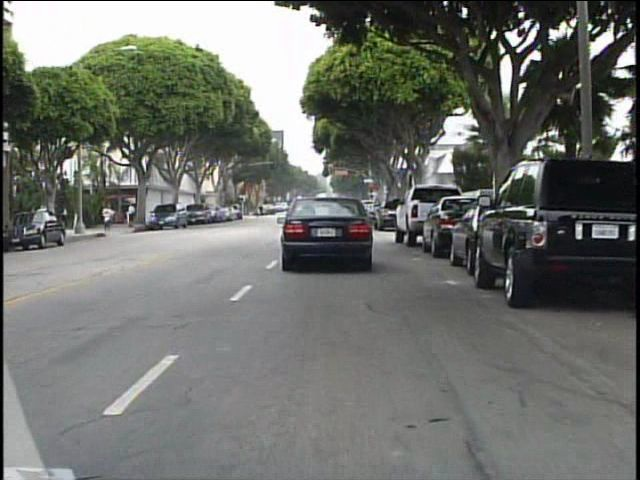person: (101, 199, 117, 235), (126, 199, 140, 231), (258, 200, 270, 221)
